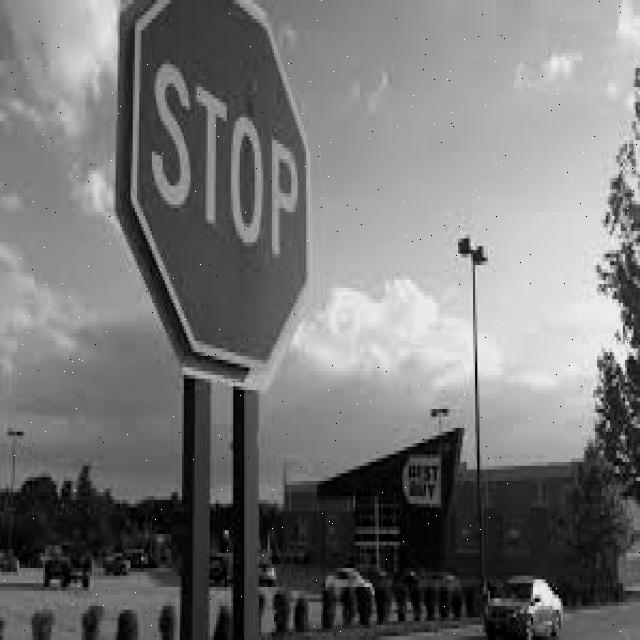stop sign: (132, 0, 312, 386)
